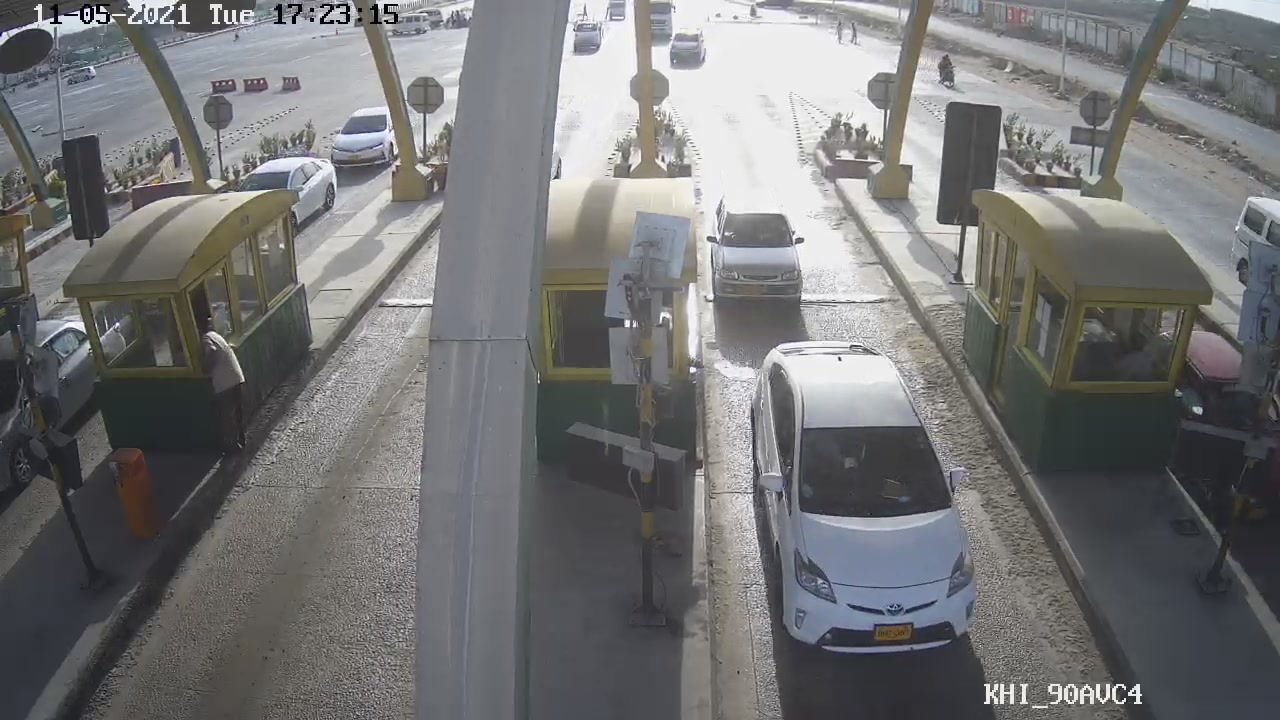F1: (739, 341, 982, 657), (704, 192, 809, 304)
